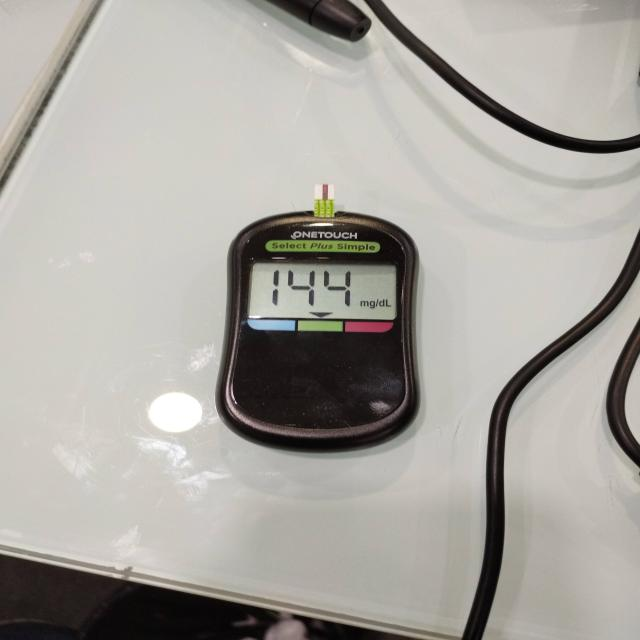gluco: (215, 185, 422, 456)
